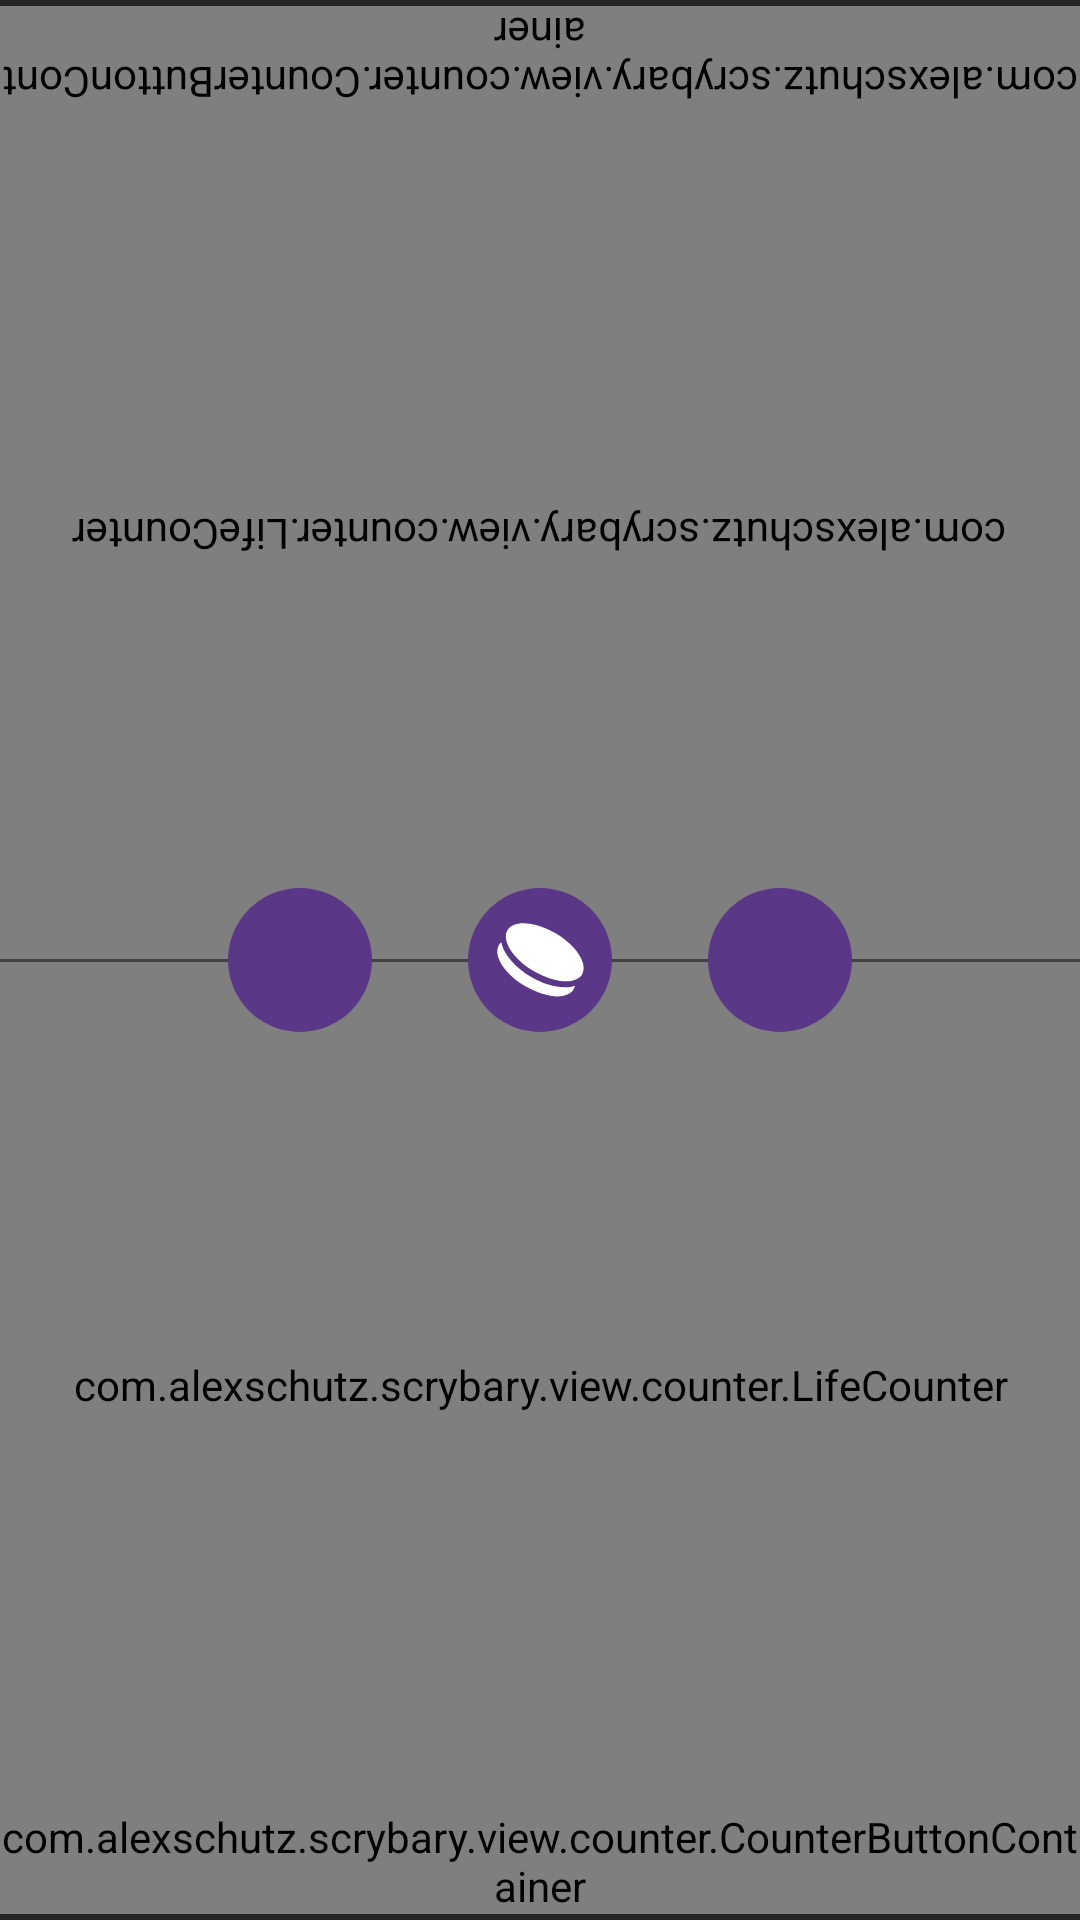

Screen size 1080w x 1920h. Icon name, then its center in pixels as point (x, y):
Flip: point (540, 960)
